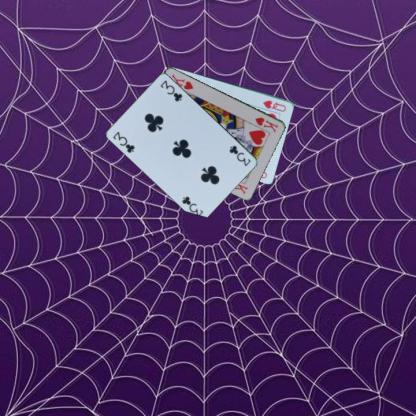3c: (227, 142, 252, 168), (110, 129, 136, 154)
Kh: (252, 115, 280, 134)
Qh: (261, 98, 287, 112)
